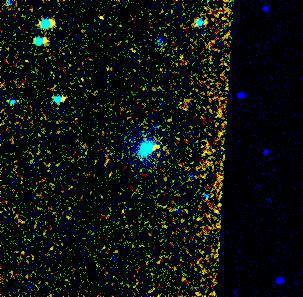star: (143, 131, 173, 161)
